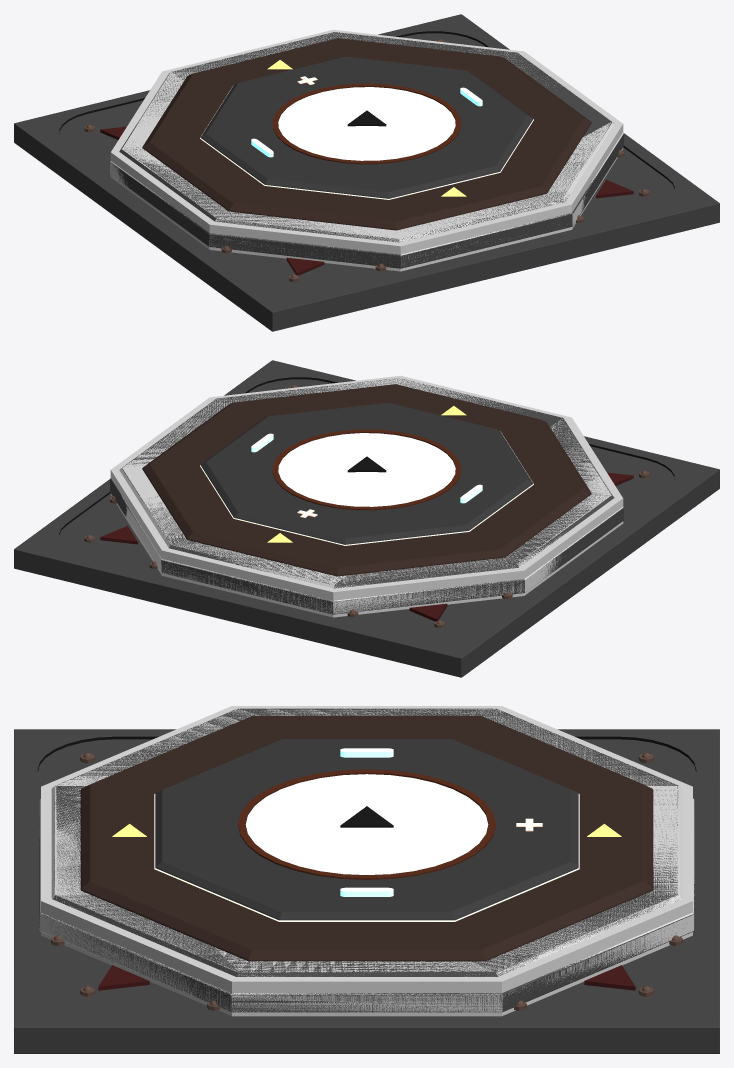
Rendered from Platform.fbx.
The picture shows the model from 3 angles, top to bottom: view 1: azimuth 30°, elevation 25°; view 2: azimuth 150°, elevation 25°; view 3: azimuth 270°, elevation 25°; orthographic projection. The views are drawn at different scales.
Parts seen in each view (by area): view 1: Circle.055; view 2: Circle.055; view 3: Circle.055.
Boxes of the visible parts, x1,y1,x2,y2 form: Circle.055: (14,14,719,331); Circle.055: (14,360,719,677); Circle.055: (14,706,719,1053).
Bounding box in the file's own units: 200 × 26.82 × 200.
